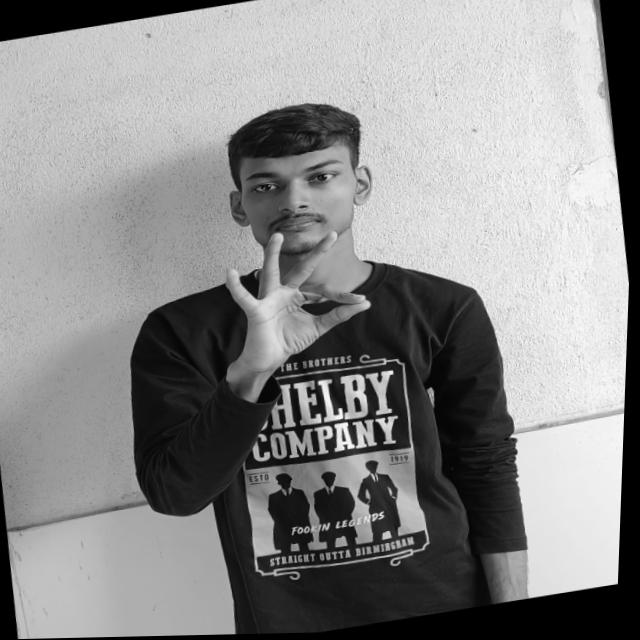Superb: (205, 219, 384, 374)
